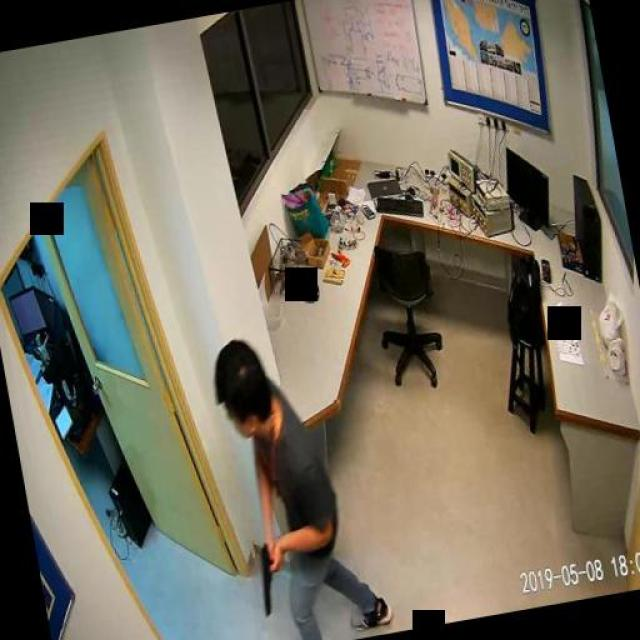gun: (252, 536, 286, 615)
